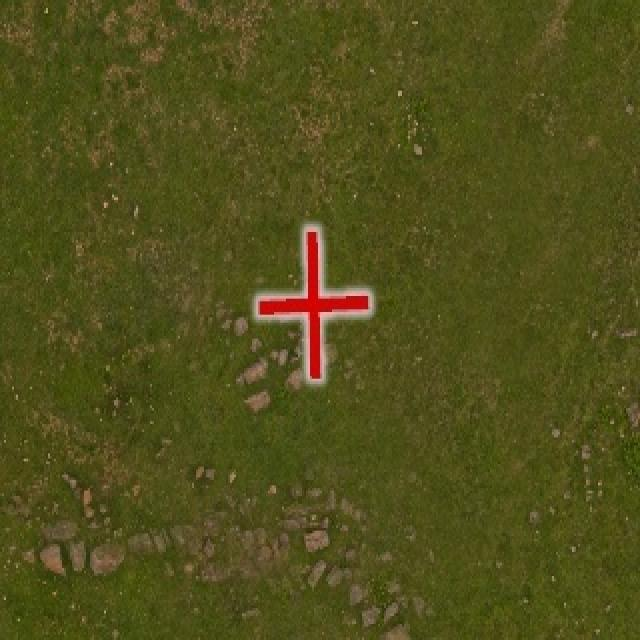x_marker: (257, 228, 369, 377)
